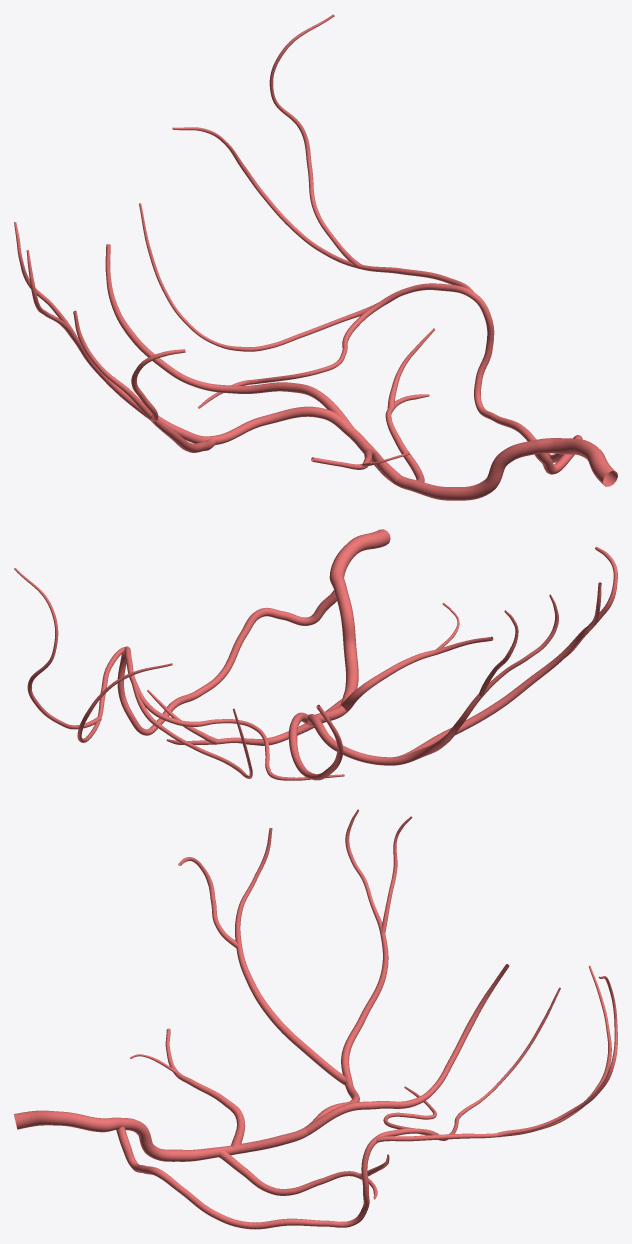
The model's file is Posterior_inferior_cerebellar_artery.r_BezierCurve.237.glb.
3 renders of one model, top to bottom at view 1: azimuth 30°, elevation 25°; view 2: azimuth 150°, elevation 25°; view 3: azimuth 270°, elevation 25°, orthographic. The views are drawn at different scales.
Visible parts, largest first — view 1: Posterior_inferior_cerebellar_artery.r_BezierCurve.237; view 2: Posterior_inferior_cerebellar_artery.r_BezierCurve.237; view 3: Posterior_inferior_cerebellar_artery.r_BezierCurve.237.
Part boxes in pixels (<box>): Posterior_inferior_cerebellar_artery.r_BezierCurve.237: <box>14,14,617,500</box>; Posterior_inferior_cerebellar_artery.r_BezierCurve.237: <box>14,529,617,780</box>; Posterior_inferior_cerebellar_artery.r_BezierCurve.237: <box>14,809,617,1229</box>.
Bounding box in the file's own units: 0.0468 × 0.0286 × 0.06.
